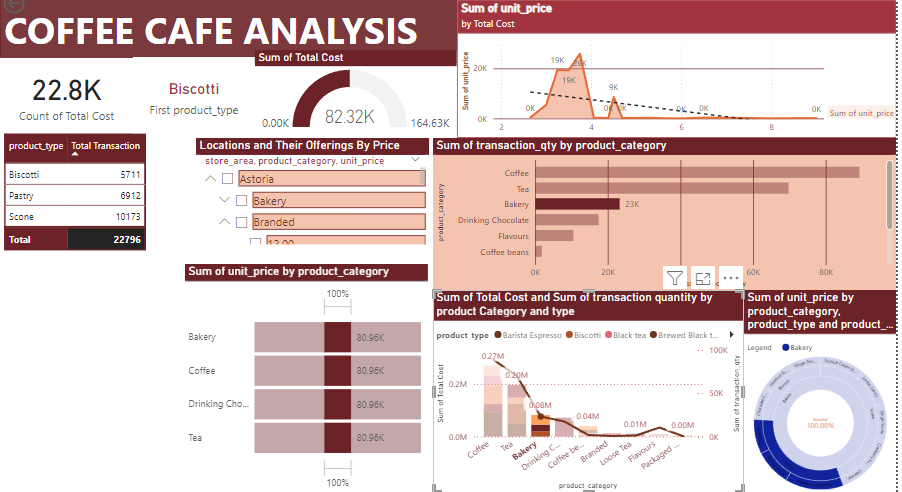

The page's visual inventory and layout, read from the dashboard file:
{"tool":"powerbi","page":{"name":"Page 1","canvas":[1280,720],"ordinal":0},"visuals":[{"type":"textbox","box":[0,14.3,665.7,91.4],"z":0},{"type":"tableEx","fields":{"Values":["Coffee Shop Sales.product_type","CountNonNull(Coffee Shop Sales.unit_price)"]},"box":[0,201.6,288,519.8],"z":1000},{"type":"lineChart","fields":{"Y":["Sum(Coffee Shop Sales.unit_price)"],"Category":["Coffee Shop Sales.Total Cost"]},"box":[652.3,15.8,627.8,197.3],"z":2000},{"type":"slicer","title":"Locations and Their Offerings By Price","fields":{"Values":["Coffee Shop Sales.store_location","Coffee Shop Sales.product_category","Coffee Shop Sales.unit_price"]},"box":[279.4,213.1,332.6,157],"z":3000},{"type":"barChart","fields":{"Category":["Coffee Shop Sales.product_category","Coffee Shop Sales.Transaction Month"],"Y":["Sum(Coffee Shop Sales.transaction_qty)"]},"box":[618.8,212.8,661.6,218.9],"z":4000},{"type":"Sunburst1445472000808","fields":{"Nodes":["Coffee Shop Sales.product_category","Coffee Shop Sales.product_type","Coffee Shop Sales.product_detail"],"Values":["Sum(Coffee Shop Sales.unit_price)"]},"box":[1062.2,430.5,218.3,289],"z":5000},{"type":"lineStackedColumnComboChart","title":"Sum of Total Cost and Sum of transaction quantity by product Category and type","fields":{"Category":["Coffee Shop Sales.product_category"],"Y":["Sum(Coffee Shop Sales.Total Cost)"],"Y2":["Sum(Coffee Shop Sales.transaction_qty)"],"Series":["Coffee Shop Sales.product_type"]},"box":[619.2,430.6,443.5,289.4],"z":6000},{"type":"funnel","fields":{"Category":["Product Category and Price.product_category"],"Y":["Sum(Coffee Shop Sales.unit_price)"]},"box":[265,393.1,347,326.9],"z":7000},{"type":"gauge","fields":{"Y":["Sum(Coffee Shop Sales.Total Cost)"]},"box":[364.3,87.8,288,125.3],"z":8000},{"type":"card","fields":{"Values":["CountNonNull(Coffee Shop Sales.Total Cost)"]},"box":[0,97.9,190.1,102.2],"z":9001},{"type":"actionButton","box":[0,0,100,40],"z":9002},{"type":"card","fields":{"Values":["Min(Coffee Shop Sales.product_type)"]},"box":[190.1,96.5,174.2,109.4],"z":9003}]}

Visuals, with their boxes in screenshot pixels (x1, y1, x2, y2):
textbox: left=2, top=0, right=466, bottom=62
tableEx - Coffee Shop Sales.product_type x CountNonNull(Coffee Shop Sales.unit_price): left=2, top=129, right=203, bottom=491
lineChart - Sum(Coffee Shop Sales.unit_price) x Coffee Shop Sales.Total Cost: left=457, top=0, right=895, bottom=137
"Locations and Their Offerings By Price" slicer: left=197, top=137, right=429, bottom=246
barChart - Coffee Shop Sales.product_category x Coffee Shop Sales.Transaction Month: left=434, top=137, right=895, bottom=289
Sunburst1445472000808 - Coffee Shop Sales.product_category x Coffee Shop Sales.product_type: left=743, top=288, right=895, bottom=490
"Sum of Total Cost and Sum of transaction quantity by product Category and type" lineStackedColumnComboChart: left=434, top=288, right=743, bottom=490
funnel - Product Category and Price.product_category x Sum(Coffee Shop Sales.unit_price): left=187, top=262, right=429, bottom=490
gauge - Sum(Coffee Shop Sales.Total Cost): left=256, top=49, right=457, bottom=137
card - CountNonNull(Coffee Shop Sales.Total Cost): left=2, top=57, right=135, bottom=128
actionButton: left=2, top=0, right=72, bottom=16
card - Min(Coffee Shop Sales.product_type): left=135, top=56, right=256, bottom=132
